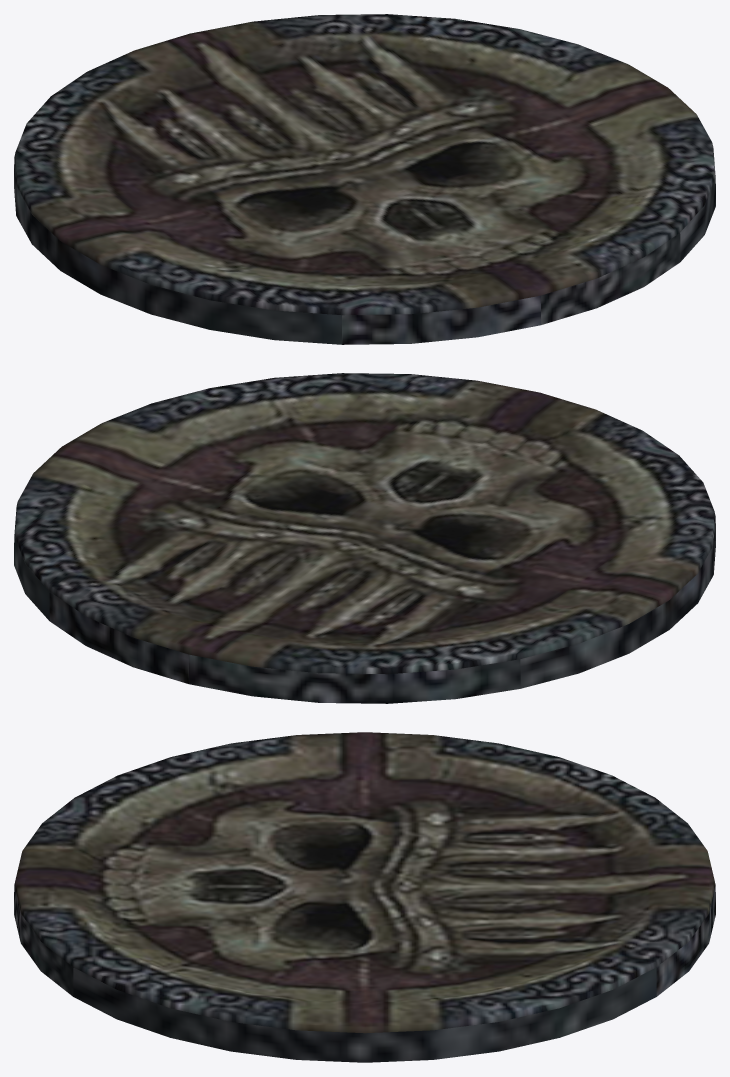
The model's file is BossPlan.fbx.
The picture shows the model from 3 angles, top to bottom: view 1: azimuth 30°, elevation 25°; view 2: azimuth 150°, elevation 25°; view 3: azimuth 270°, elevation 25°; orthographic projection.
Visible parts, largest first — view 1: BossPlan; view 2: BossPlan; view 3: BossPlan.
Part boxes in pixels (box(x1,y1,x2,y2)): BossPlan: box(14, 14, 715, 344); BossPlan: box(14, 373, 715, 703); BossPlan: box(14, 732, 715, 1062).
Bounding box in the file's own units: 56.18 × 3.18 × 56.18.
